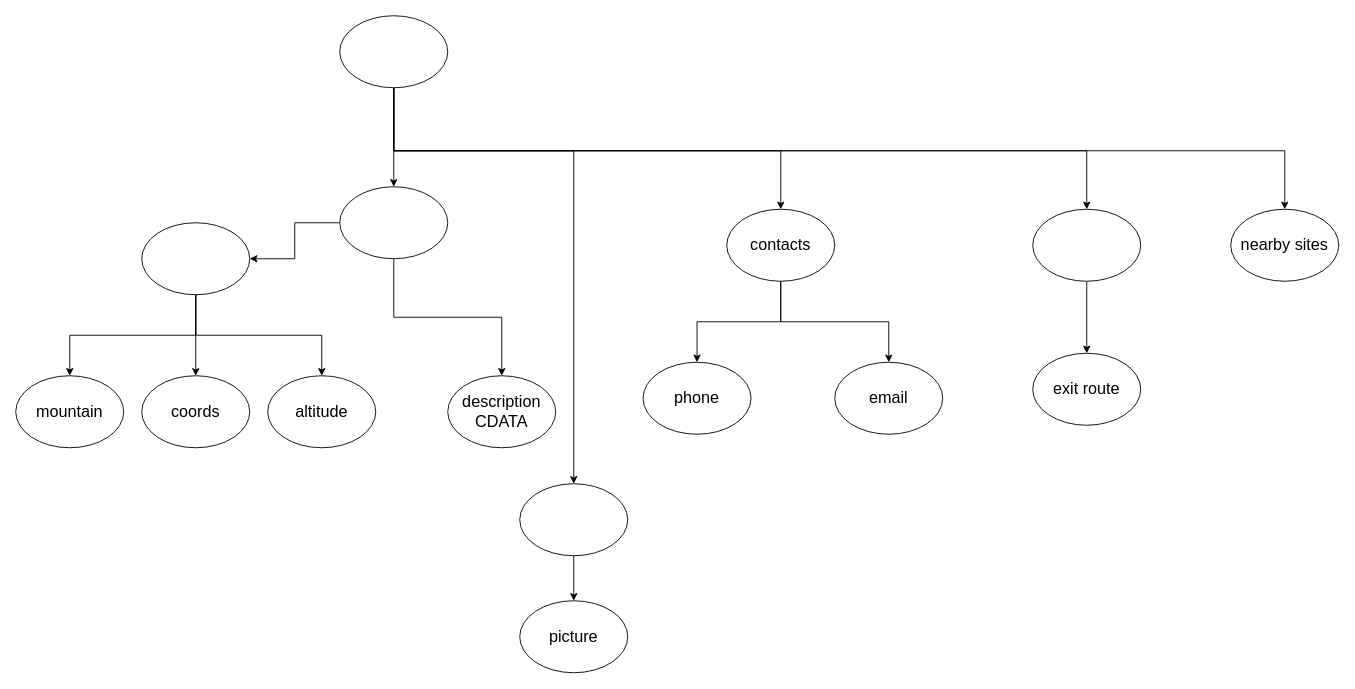
This 1355x689 diagram has some shape labels left out. Here are the shapes that lost their labels. From the top down, the centre of each, then its label:
At [393,51]: "catalog".
At [393,222]: "hut".
At [195,258]: "location attr:europ-route".
At [1086,244]: "exit routes".
At [573,519]: "pictures".
